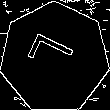L_SE: (26, 33, 84, 82)
